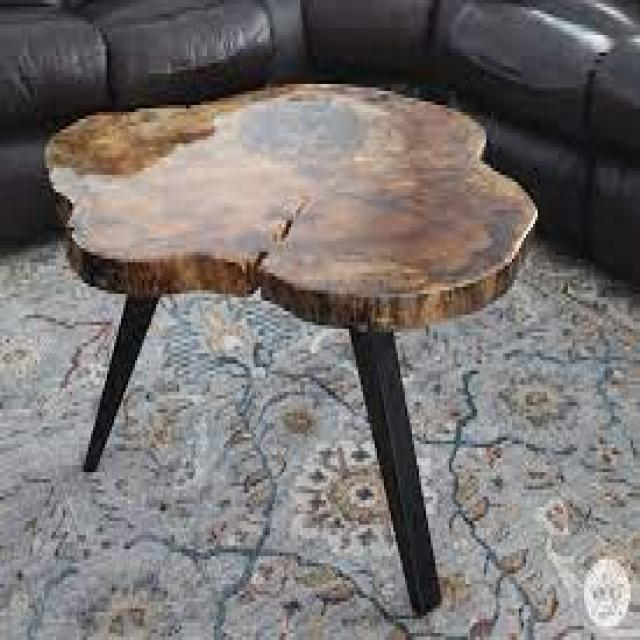Woods: (42, 84, 538, 472)
